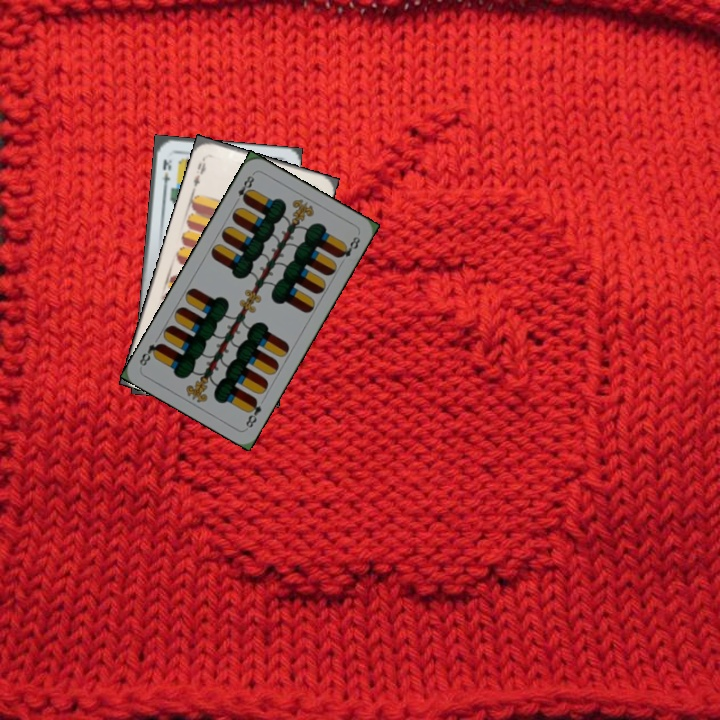E8: (231, 170, 257, 207), (241, 395, 264, 430)
E9: (189, 153, 209, 189)
EK: (159, 155, 174, 191)
